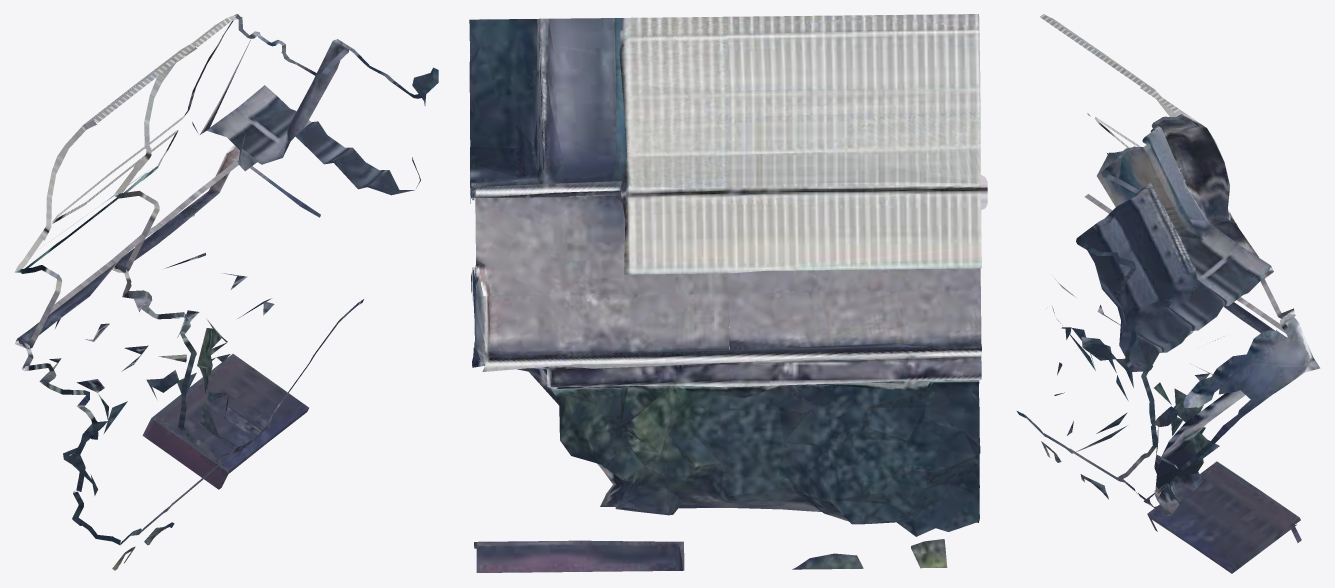
The picture shows the model from 3 angles, left to right: view 1: azimuth 30°, elevation 25°; view 2: azimuth 150°, elevation 25°; view 3: azimuth 270°, elevation 25°; orthographic projection. The views are drawn at different scales.
Size of the model in its own units: 40.95 by 42.67 by 27.1.
Materials: 2 (2 with a texture image).
